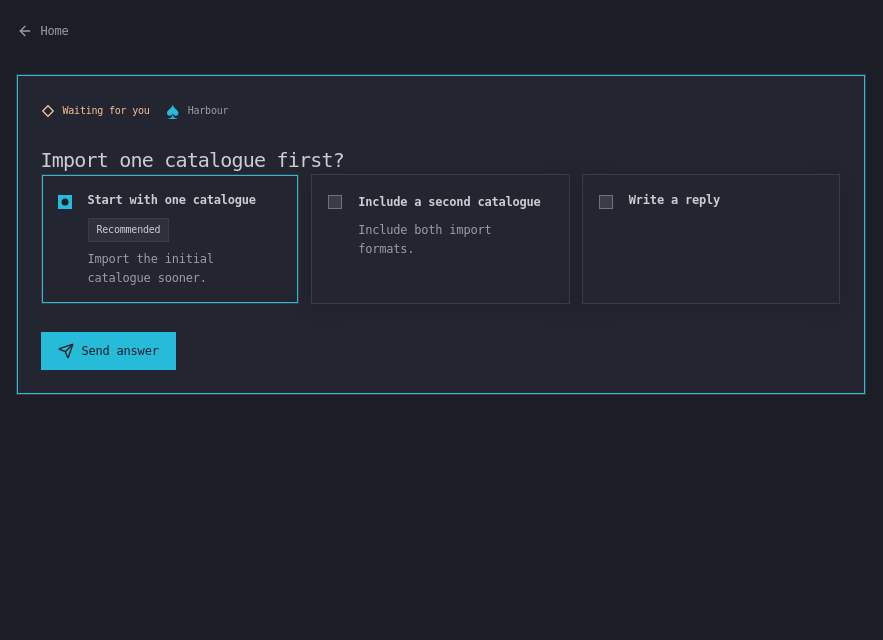
Test: answers › Decision sends a written reply and keeps the draft when the question lapses
Click the radio button named "Write a reply" next to "Write a reply" at (606, 202), box top-left (599, 195), bottom-right (613, 209)
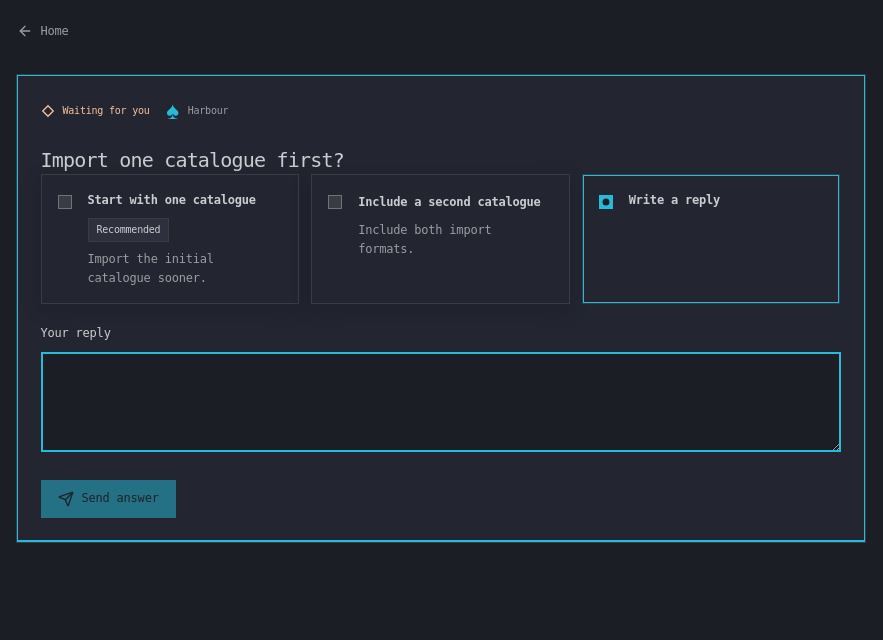
Type "Start locally" into the text box at (440, 402), box top-left (40, 352), bottom-right (840, 452)
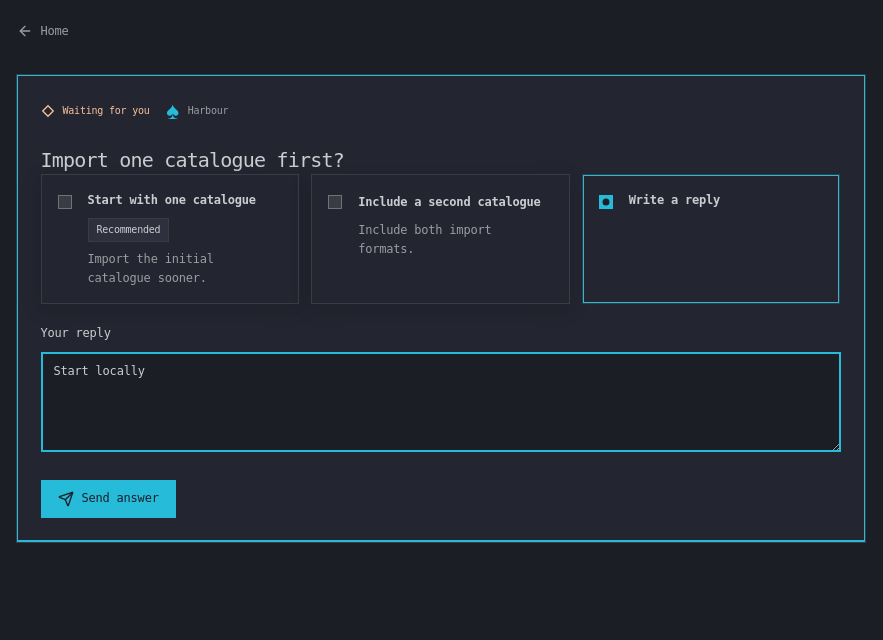
Click the button "Send answer" at (108, 499), box top-left (40, 480), bottom-right (176, 518)
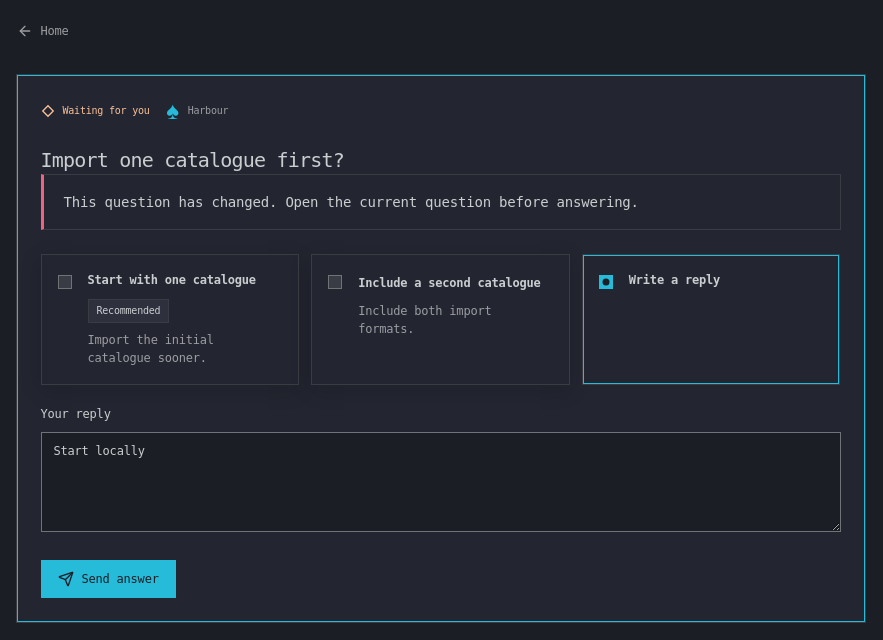
Check: the message shows "This question has changed", box top-left (64, 194), bottom-right (639, 210)
